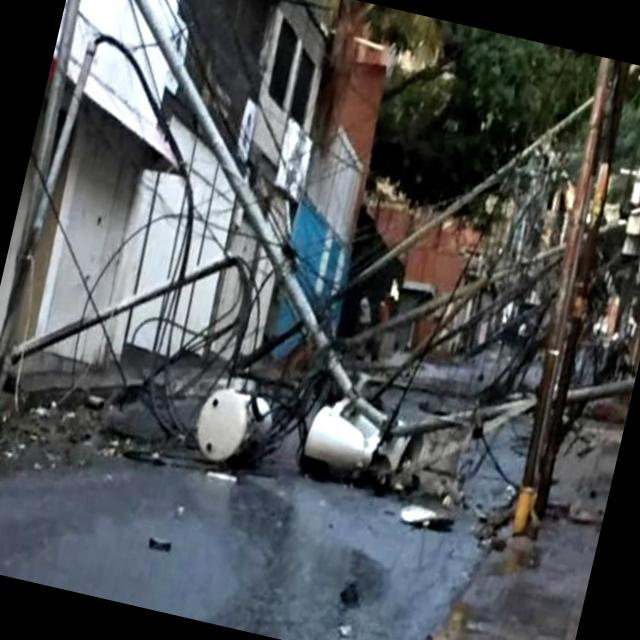Broken Pole: (124, 0, 635, 502)
